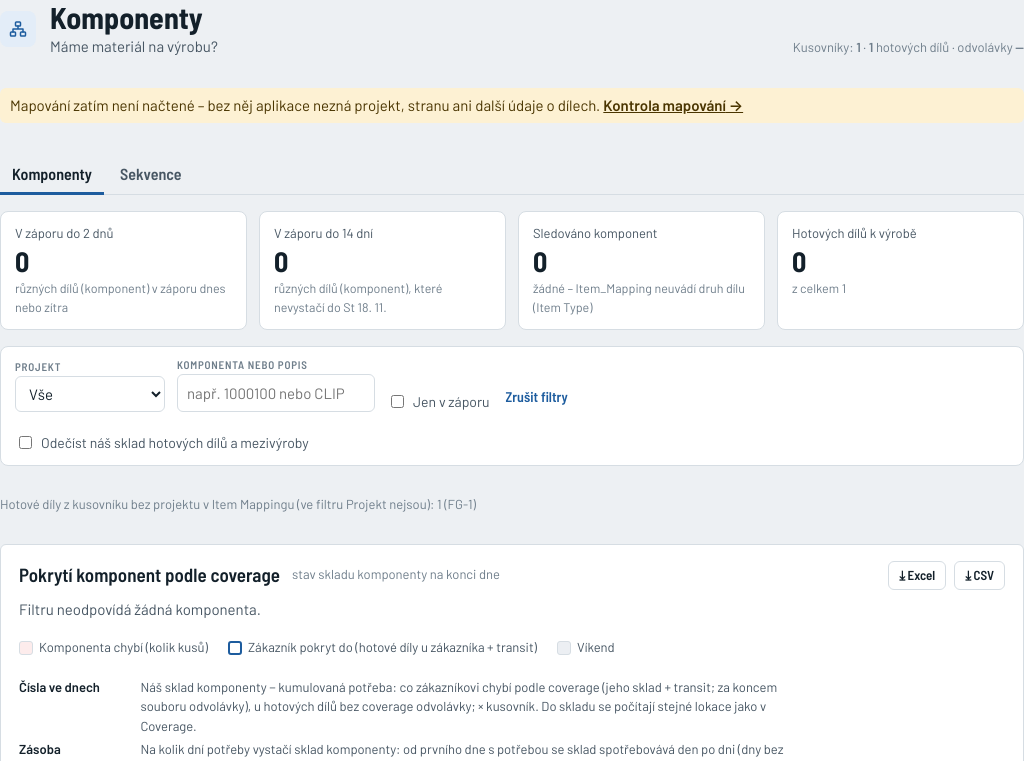
Scenario: Komponenty – karta Sekvence › bez souborů ve složce Sekvence poradí, co uložit
Click the tab "Sekvence".
click(151, 174)  # box [108,154,194,195]
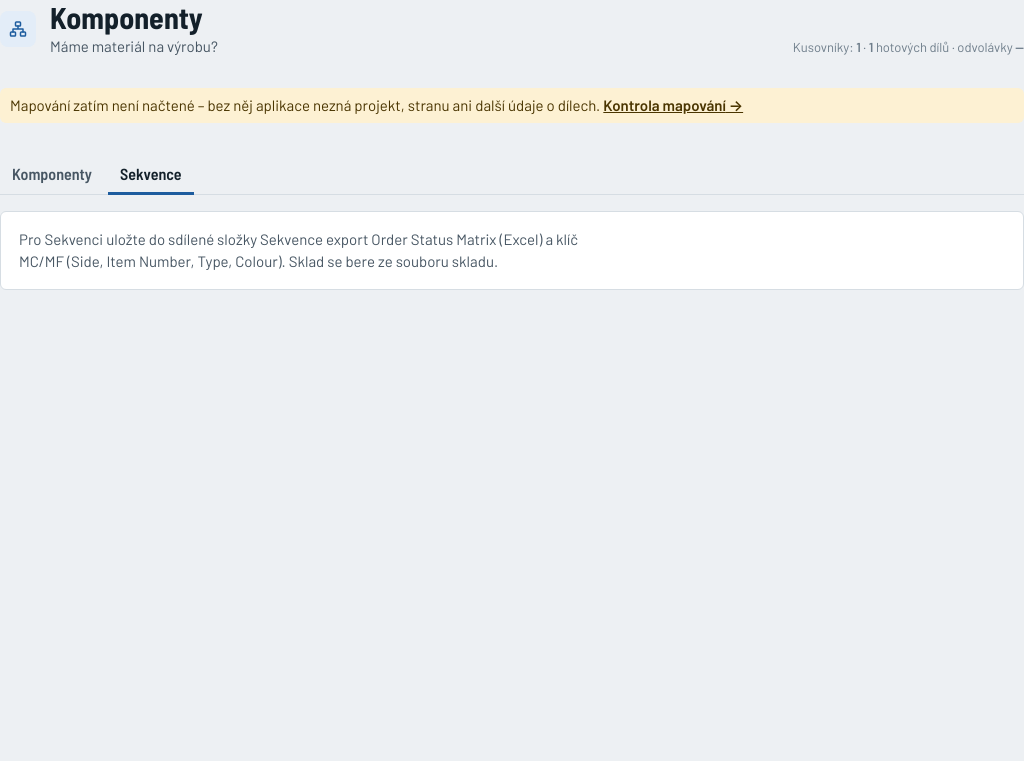
Result: the text "uložte do sdílené složky Sekvence" is shown at [19,230,578,270]
